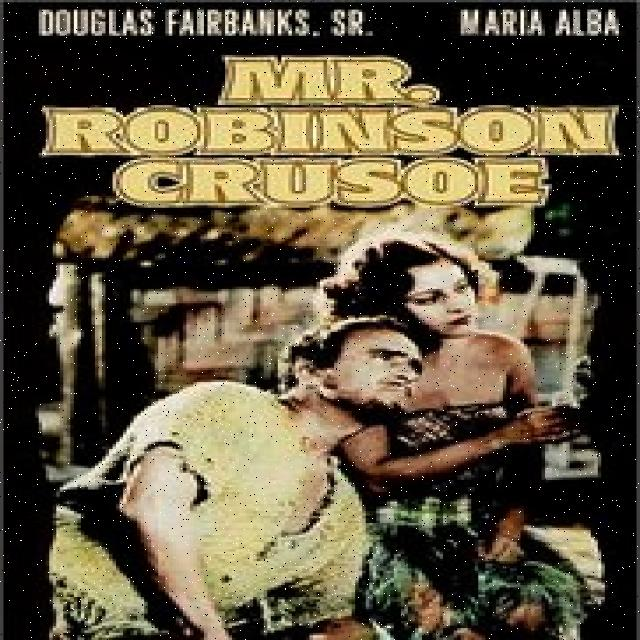movie-judul: (41, 51, 628, 207)
picture: (46, 217, 626, 640)
